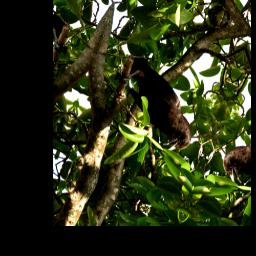Crow: (103, 51, 211, 161)
